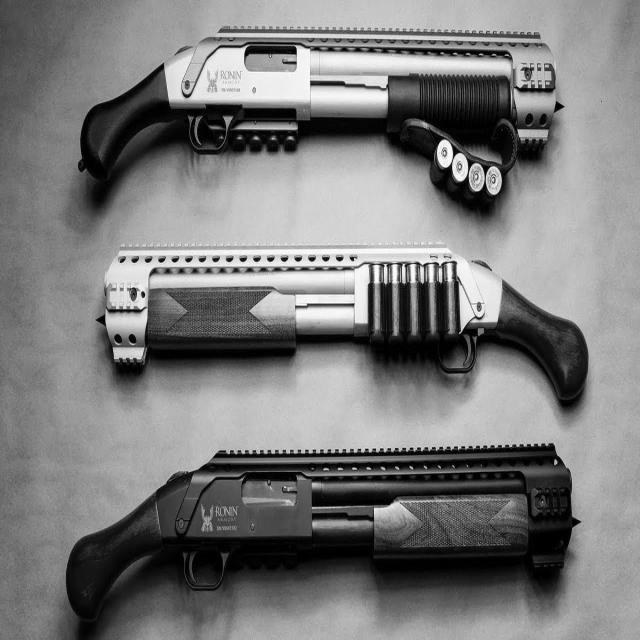Short-Gun: (93, 235, 603, 429), (63, 445, 583, 635), (78, 19, 564, 208)
